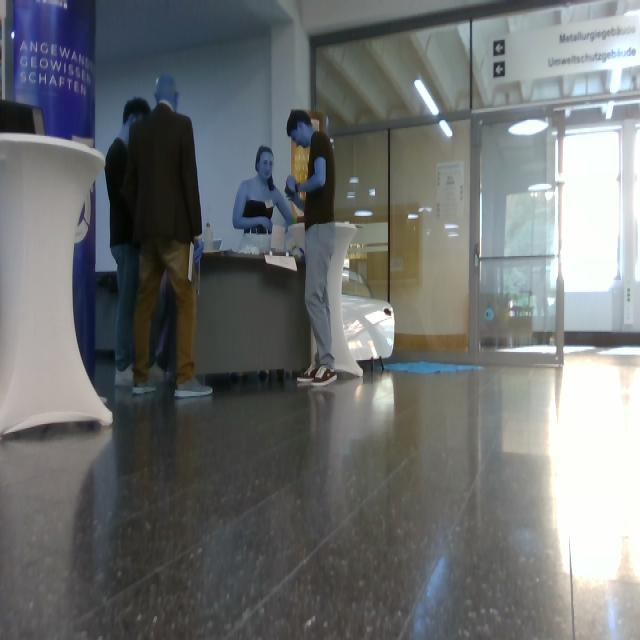desk: (196, 253, 311, 377), (97, 273, 117, 364)
door: (317, 1, 640, 364)
light bulb: (415, 80, 439, 116), (439, 120, 452, 138), (13, 32, 14, 40)
person: (126, 77, 212, 397), (286, 110, 337, 385), (106, 98, 151, 385), (234, 146, 293, 255), (151, 313, 169, 384)
table: (1, 134, 111, 436), (328, 225, 362, 376)
tiled floor: (1, 356, 640, 640)
